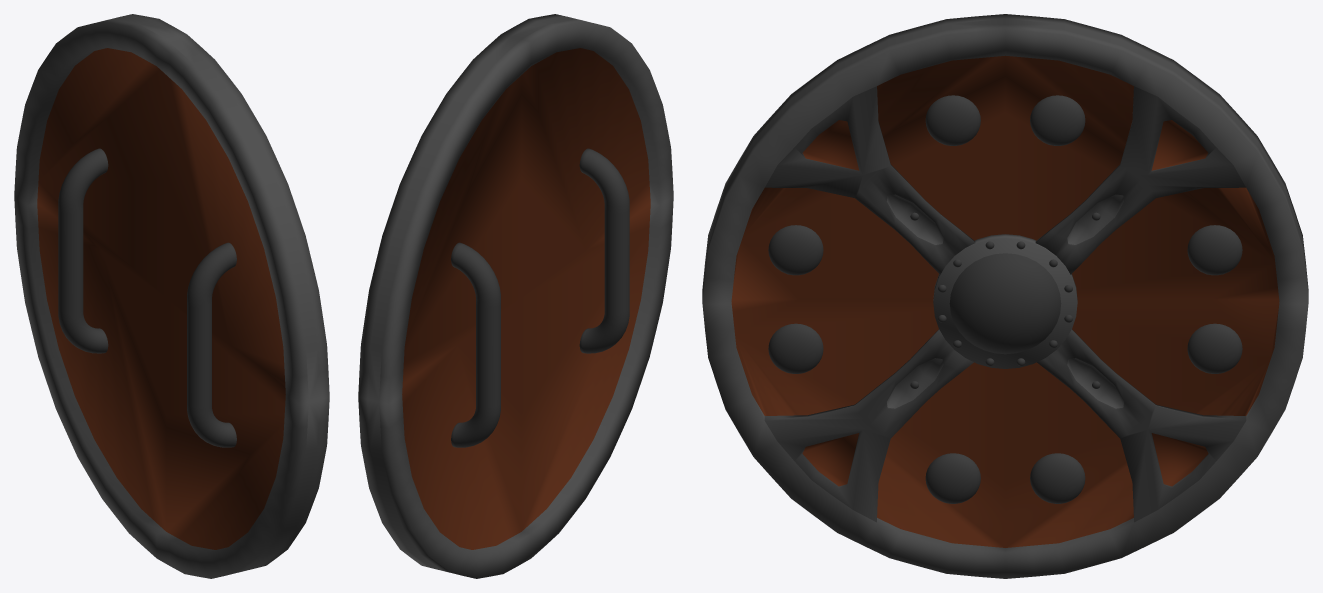
File: VikingShield.fbx
3 views of the same model, side by side, from view 1: azimuth 30°, elevation 25°; view 2: azimuth 150°, elevation 25°; view 3: azimuth 270°, elevation 25° (orthographic). The views are drawn at different scales.
Parts seen in each view (by area): view 1: Sphere.001; view 2: Sphere.001; view 3: Sphere.001.
Part boxes in pixels (bbox=[...]): Sphere.001: bbox=[14, 14, 329, 578]; Sphere.001: bbox=[358, 14, 673, 578]; Sphere.001: bbox=[702, 14, 1308, 578].
Size of the model in its own units: 44.81 by 264 by 264.
